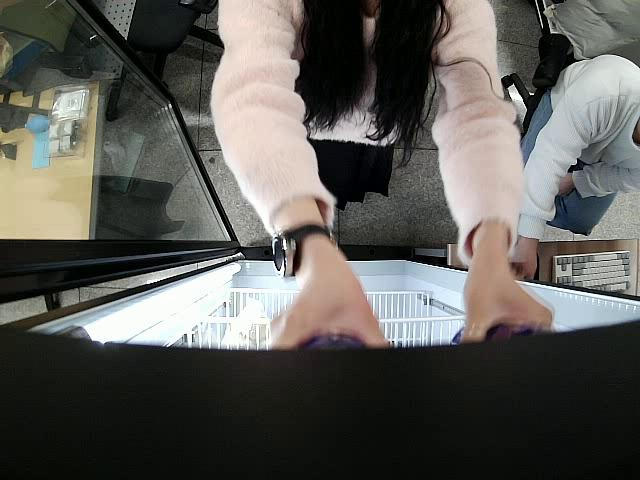14_welchsGrape: (452, 322, 556, 350), (289, 329, 376, 361)
